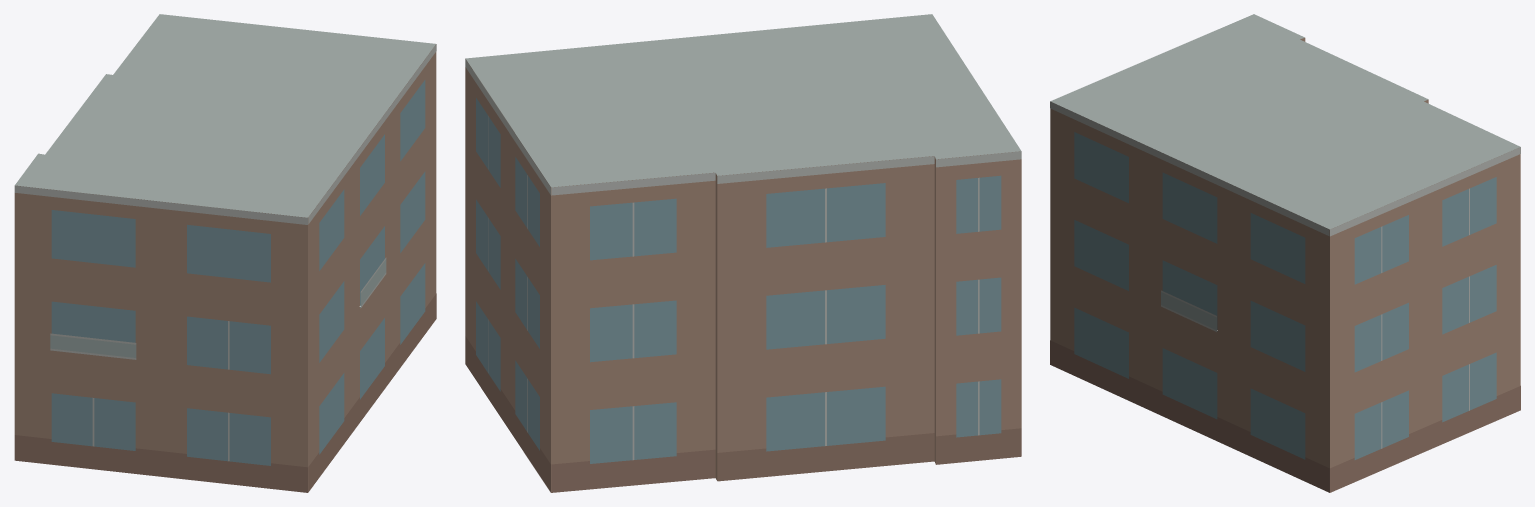
The model's file is survey-upis-32513531.glb.
3 renders of one model, left to right at view 1: azimuth 30°, elevation 25°; view 2: azimuth 150°, elevation 25°; view 3: azimuth 270°, elevation 25°, orthographic. The views are drawn at different scales.
Visible parts, largest first — view 1: survey-upis-32513531.tmp; view 2: survey-upis-32513531.tmp; view 3: survey-upis-32513531.tmp.
Boxes of the visible parts, x1,y1,x2,y2 form: survey-upis-32513531.tmp: (14, 14, 436, 492); survey-upis-32513531.tmp: (465, 14, 1021, 492); survey-upis-32513531.tmp: (1050, 14, 1520, 492).
Bounding box in the file's own units: 16.07 × 9.15 × 14.83.
